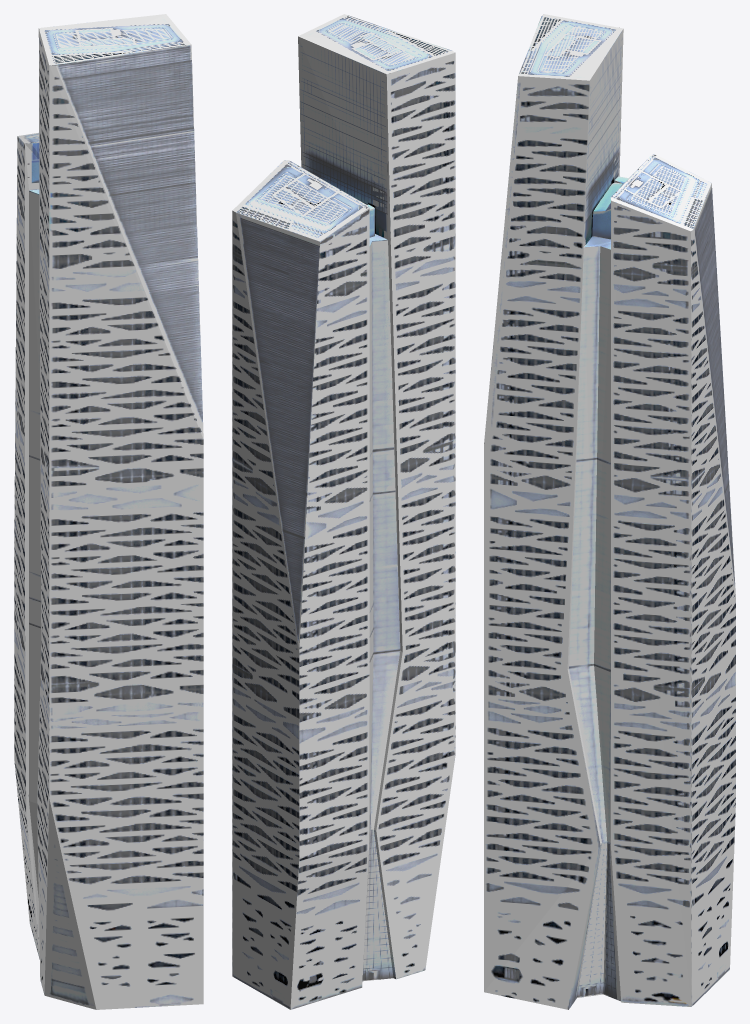
File: 115_placed_n.glb
3 renders of one model, left to right at view 1: azimuth 30°, elevation 25°; view 2: azimuth 150°, elevation 25°; view 3: azimuth 270°, elevation 25°, orthographic. The views are drawn at different scales.
Parts seen in each view (by area): view 1: 115.001; view 2: 115.001; view 3: 115.001.
Boxes of the visible parts, <box> form: 115.001: <box>14,14,203,1009</box>; 115.001: <box>232,14,455,1009</box>; 115.001: <box>484,14,735,1009</box>.
Bounding box in the file's own units: 54 × 303 × 75.24.
1 material, 1 textured.
